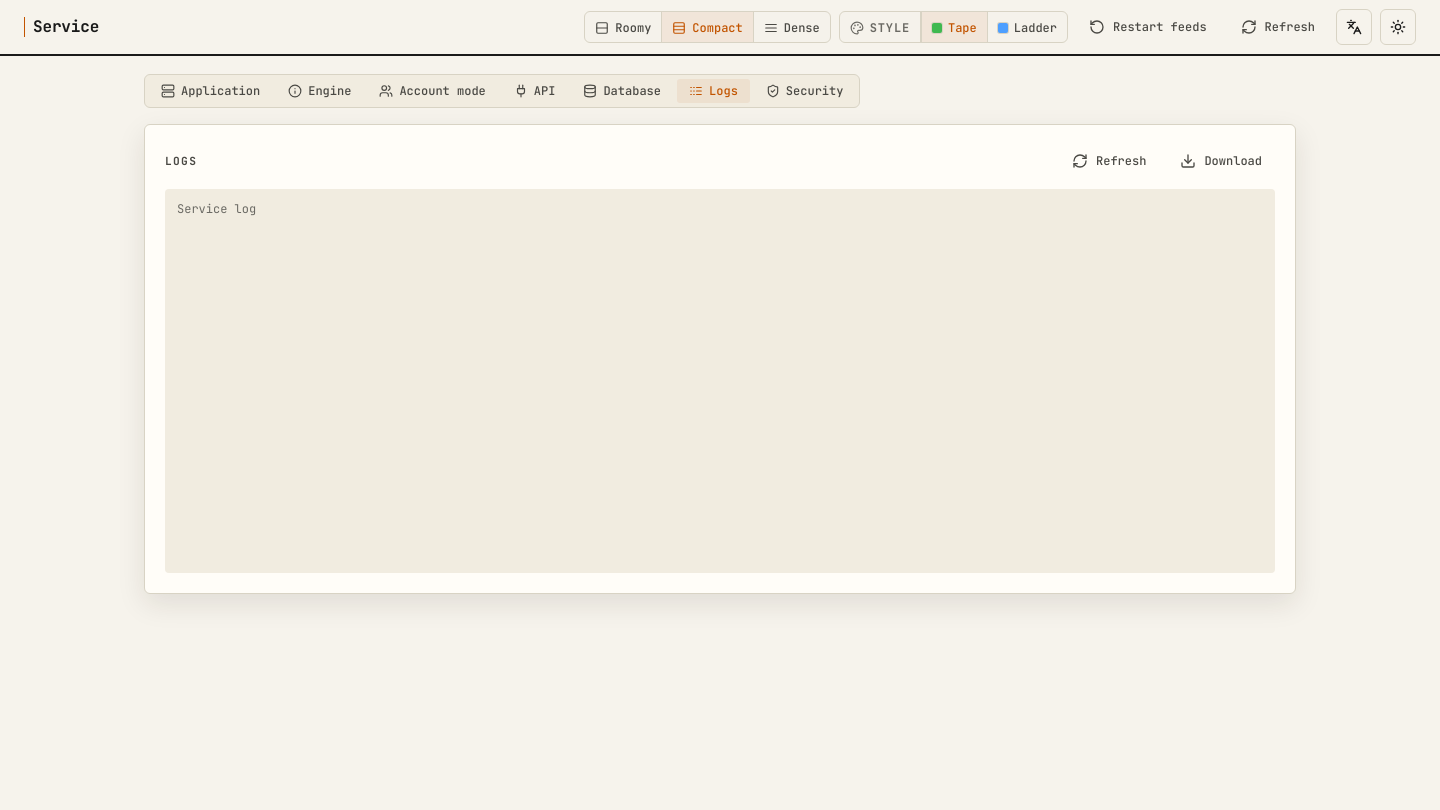
Scenario: Service › logs download › shows a failed download in the logs card
The image size is (1440, 810).
Expected: the text "Service log" is shown, [165,189,1275,573]
Click the button "Download".
click(1221, 161)  # box [1167,145,1275,177]
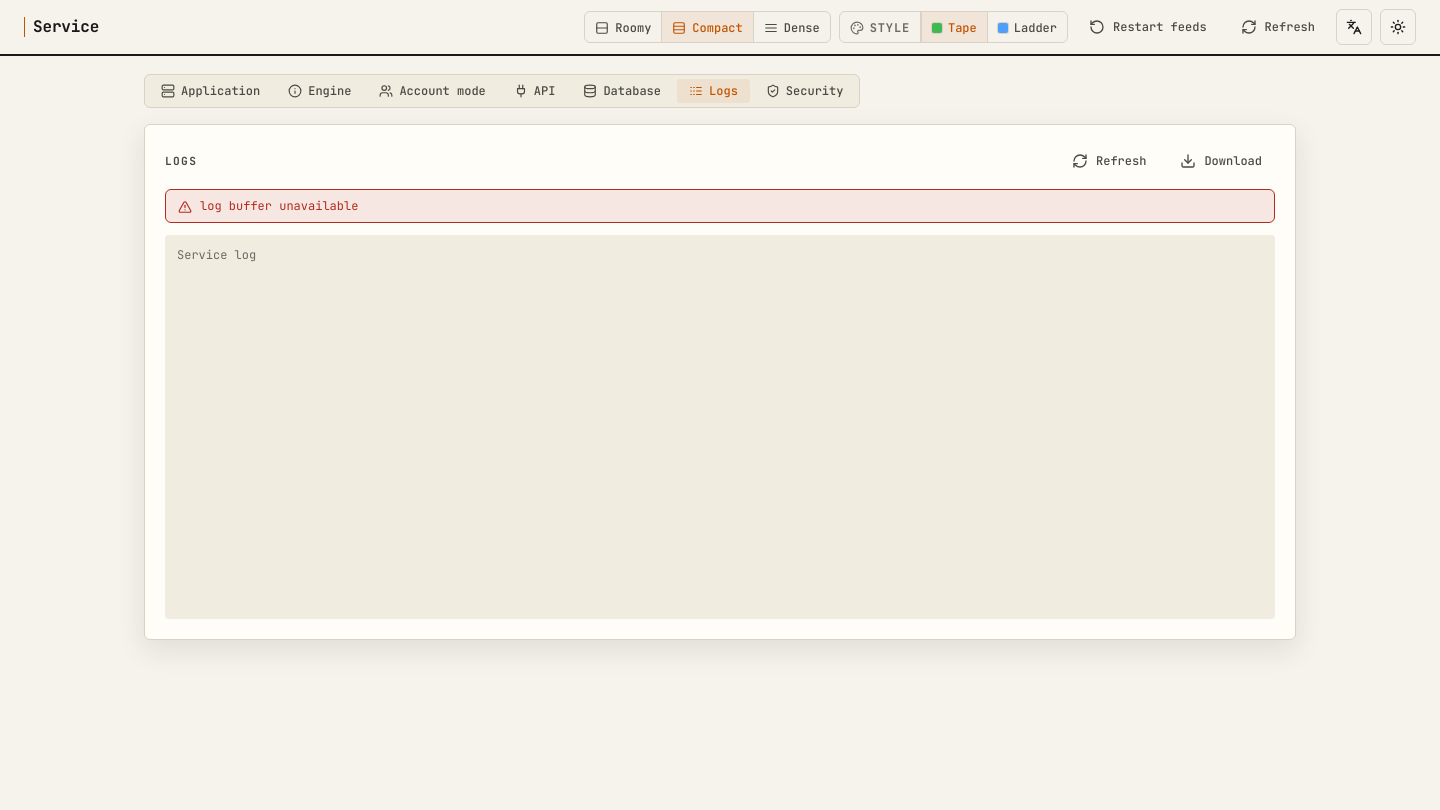
Now the message reads "log buffer unavailable", box [200,198,358,214]
